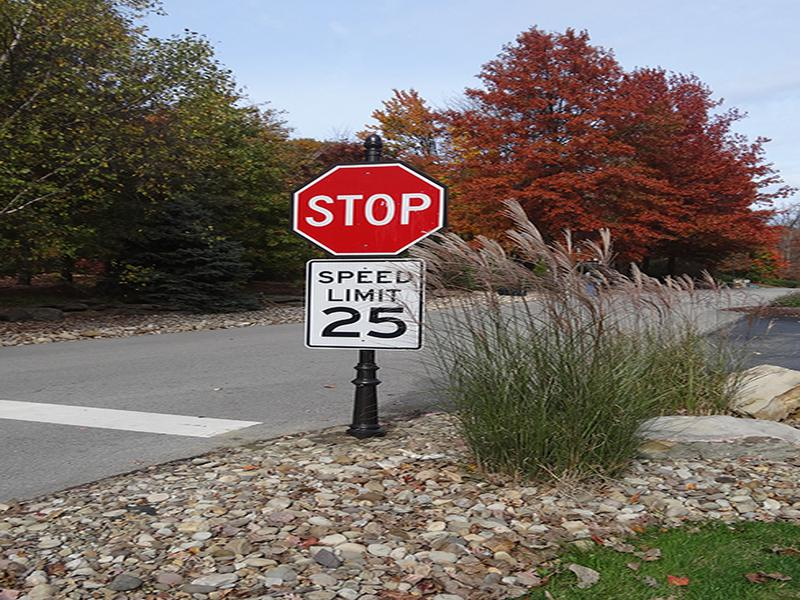stop: (287, 156, 449, 254)
